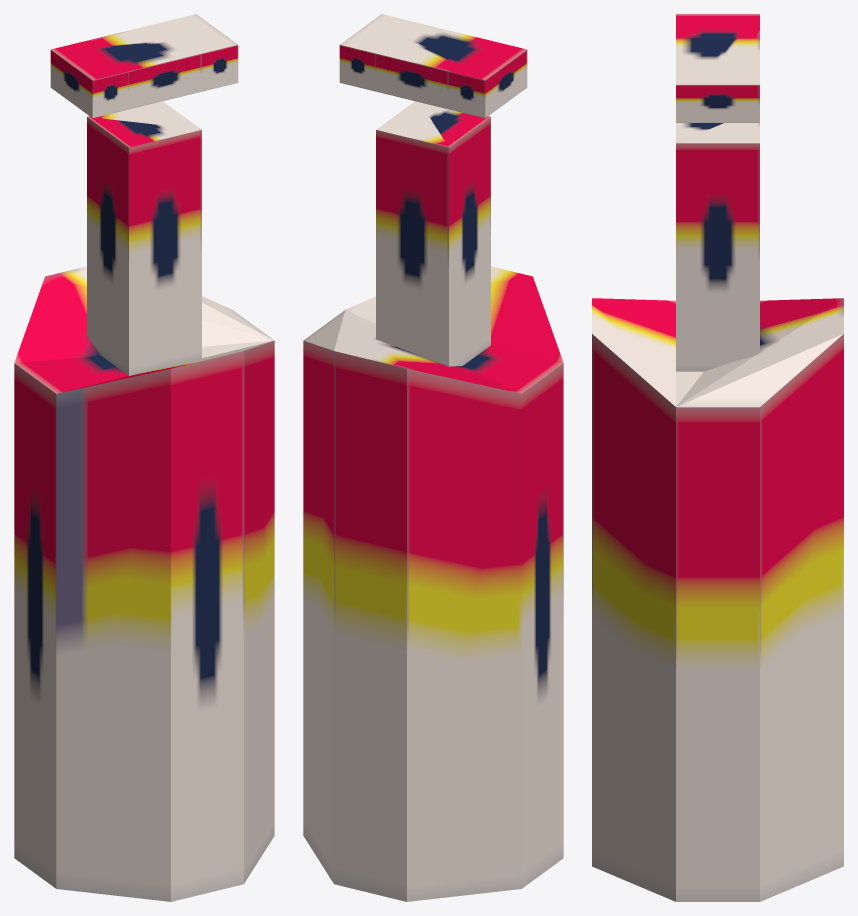
Rendered from beer-bottle.gltf.
3 views of the same model, side by side, from view 1: azimuth 30°, elevation 25°; view 2: azimuth 150°, elevation 25°; view 3: azimuth 270°, elevation 25° (orthographic).
Size of the model in its own units: 1.5 by 5.25 by 1.5.
Materials: 1 (1 with a texture image).
